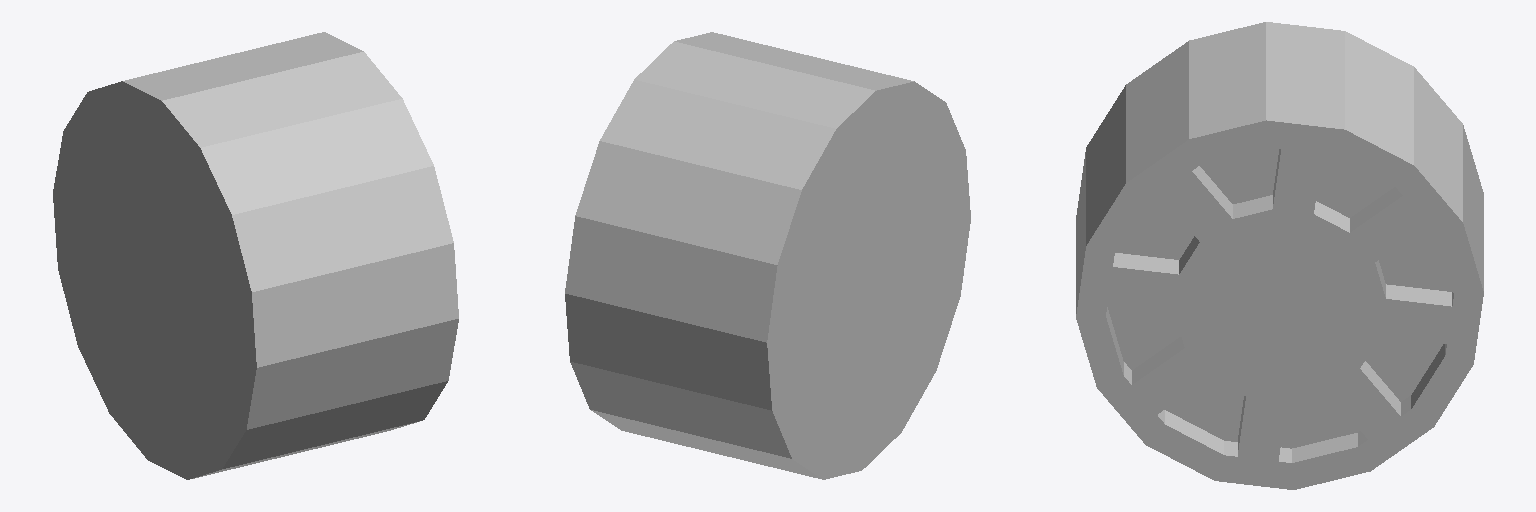
File: left_wheel.obj
The picture shows the model from 3 angles: view 1: azimuth 30°, elevation 25°; view 2: azimuth 150°, elevation 25°; view 3: azimuth 270°, elevation 25°; orthographic projection.
Parts seen in each view (by area): view 1: left_wheel_Plane.005; view 2: left_wheel_Plane.005; view 3: left_wheel_Plane.005.
Boxes of the visible parts, x1=… form: left_wheel_Plane.005: x1=53, y1=32, x2=458, y2=479; left_wheel_Plane.005: x1=565, y1=32, x2=970, y2=479; left_wheel_Plane.005: x1=1076, y1=22, x2=1483, y2=489.
Bounding box in the file's own units: 0.3343 × 0.584 × 0.584.